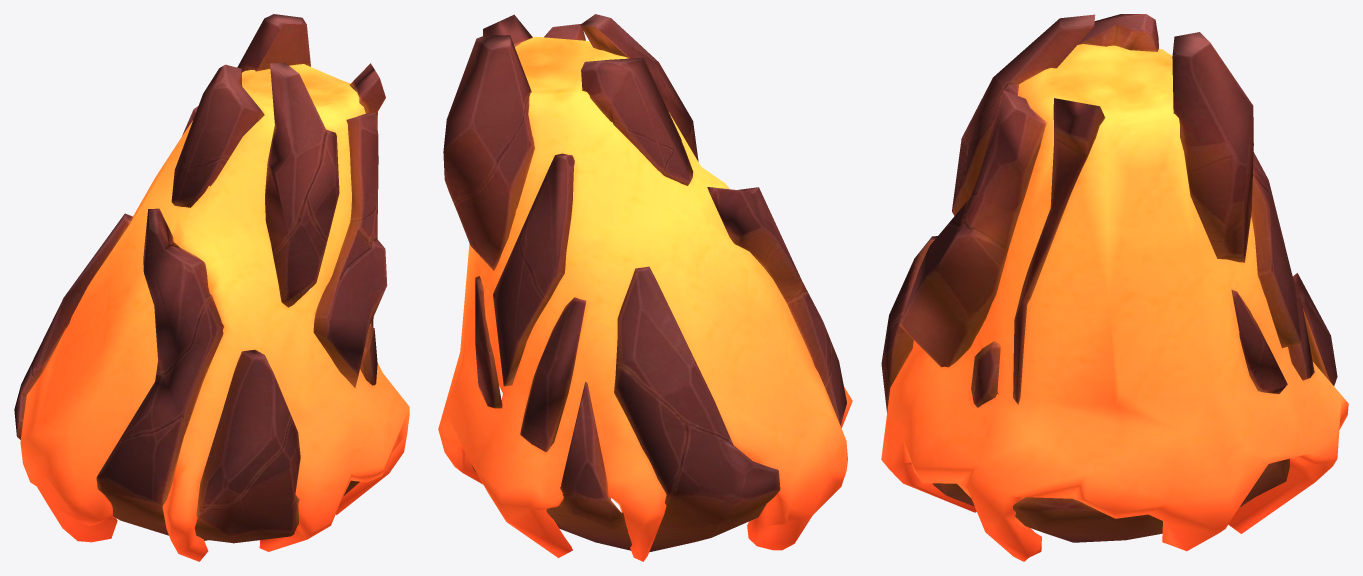
The model's file is molten_volcano_a_far.glb.
3 views of the same model, side by side, from view 1: azimuth 30°, elevation 25°; view 2: azimuth 150°, elevation 25°; view 3: azimuth 270°, elevation 25° (orthographic). The views are drawn at different scales.
Parts seen in each view (by area): view 1: SM_MLTN_STL_Volcano_01A; view 2: SM_MLTN_STL_Volcano_01A; view 3: SM_MLTN_STL_Volcano_01A.
Boxes of the visible parts, box(x1,y1,x2,y2) form: SM_MLTN_STL_Volcano_01A: box(14, 14, 409, 561); SM_MLTN_STL_Volcano_01A: box(438, 14, 852, 561); SM_MLTN_STL_Volcano_01A: box(881, 14, 1348, 561).
Bounding box in the file's own units: 22.44 × 29.64 × 22.71.
1 material, 1 textured.
